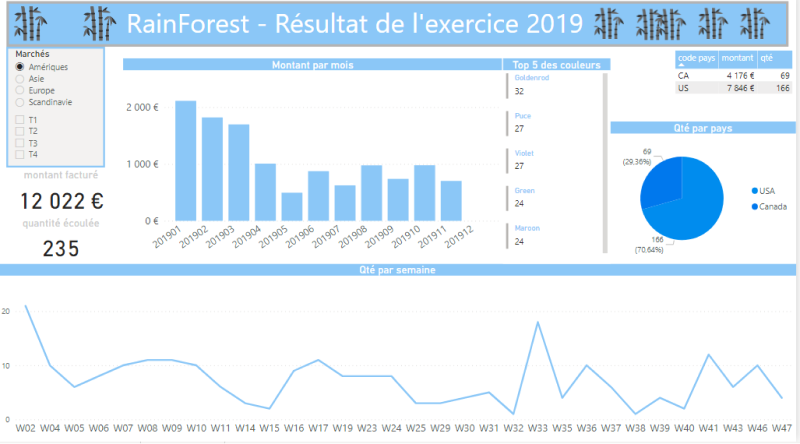

Layout of this report page (visuals, bound fields, positions):
{"tool":"powerbi","page":{"name":"Pilotage","canvas":[1280,720],"ordinal":0},"visuals":[{"type":"basicShape","box":[10.9,84,161.7,197.5],"z":0},{"type":"columnChart","title":"Montant par mois","fields":{"Category":["Datum.Annee mois"],"Y":["activité_2019.montant"]},"box":[200.6,104.2,608.1,329.7],"z":1000},{"type":"lineChart","title":"Qté par semaine","fields":{"Category":["Datum.Semaine ISO"],"Y":["activité_2019.qté"]},"box":[0,433.9,1280,286.2],"z":2000},{"type":"pieChart","title":"Qté par pays","fields":{"Category":["activité_2019.pays"],"Y":["activité_2019.qté"]},"box":[981.4,206.9,298.6,227.1],"z":3000},{"type":"card","title":"montant facturé","fields":{"Values":["activité_2019.montant"]},"box":[0,281.5,200.6,77.8],"z":4000},{"type":"card","title":"quantité écoulée","fields":{"Values":["activité_2019.qté"]},"box":[0,359.3,200.6,74.7],"z":5000},{"type":"multiRowCard","title":"Top 5 des couleurs","fields":{"Values":["activité_2019.couleur","activité_2019.qté"]},"box":[808.7,104.2,172.6,329.7],"z":6000},{"type":"image","box":[51.3,12.4,76.2,73.1],"z":7000},{"type":"basicShape","box":[0,12.7,1280,74.7],"z":7000,"group":"g1"},{"type":"image","box":[1146.2,12.4,66.9,73.1],"z":8000},{"type":"textbox","box":[200.6,12.7,755.9,74.7],"z":8000,"group":"g1"},{"type":"image","box":[14,12.7,76.2,73.1],"z":9000,"group":"g1"},{"type":"slicer","fields":{"Values":["Datum.Trimestre"]},"box":[14,188.2,150.9,93.3],"z":9000},{"type":"slicer","fields":{"Values":["activité_2019.Marchés"]},"box":[14,84,138.4,104.2],"z":10000},{"type":"image","box":[124.4,12.7,76.2,73.1],"z":11000,"group":"g1"},{"type":"tableEx","fields":{"Values":["activité_2019.code pays","activité_2019.montant","activité_2019.qté"]},"box":[1080,87.5,200.5,103.1],"z":11000},{"type":"group","id":"g1","title":"Groupe 1","box":[0,12.7,1280.5,74.8],"z":12000},{"type":"image","box":[947.2,12.7,66.9,73.1],"z":12000,"group":"g1"},{"type":"image","box":[1014,14.3,66.9,73.1],"z":13000,"group":"g1"},{"type":"image","box":[1046.7,14.3,66.9,73.1],"z":14000,"group":"g1"},{"type":"image","box":[1113.6,12.7,66.9,73.1],"z":15000,"group":"g1"},{"type":"image","box":[1180.5,12.7,66.9,73.1],"z":17000,"group":"g1"}]}

Visuals, with their boxes in screenshot pixels (x1, y1, x2, y2), scaled from the page's 1280x720 canvas onto the 800x444 screenshot:
basicShape: (x1=7, y1=52, x2=108, y2=174)
"Montant par mois" columnChart: (x1=125, y1=64, x2=505, y2=268)
"Qté par semaine" lineChart: (x1=0, y1=268, x2=799, y2=443)
"Qté par pays" pieChart: (x1=613, y1=128, x2=799, y2=268)
"montant facturé" card: (x1=0, y1=174, x2=125, y2=222)
"quantité écoulée" card: (x1=0, y1=222, x2=125, y2=268)
"Top 5 des couleurs" multiRowCard: (x1=505, y1=64, x2=613, y2=268)
image: (x1=32, y1=8, x2=80, y2=53)
basicShape: (x1=0, y1=8, x2=799, y2=54)
image: (x1=716, y1=8, x2=758, y2=53)
textbox: (x1=125, y1=8, x2=598, y2=54)
image: (x1=9, y1=8, x2=56, y2=53)
slicer - Datum.Trimestre: (x1=9, y1=116, x2=103, y2=174)
slicer - activité_2019.Marchés: (x1=9, y1=52, x2=95, y2=116)
image: (x1=78, y1=8, x2=125, y2=53)
tableEx - activité_2019.code pays x activité_2019.montant: (x1=675, y1=54, x2=799, y2=118)
"Groupe 1" group: (x1=0, y1=8, x2=799, y2=54)
image: (x1=592, y1=8, x2=634, y2=53)
image: (x1=634, y1=9, x2=676, y2=54)
image: (x1=654, y1=9, x2=696, y2=54)
image: (x1=696, y1=8, x2=738, y2=53)
image: (x1=738, y1=8, x2=780, y2=53)
